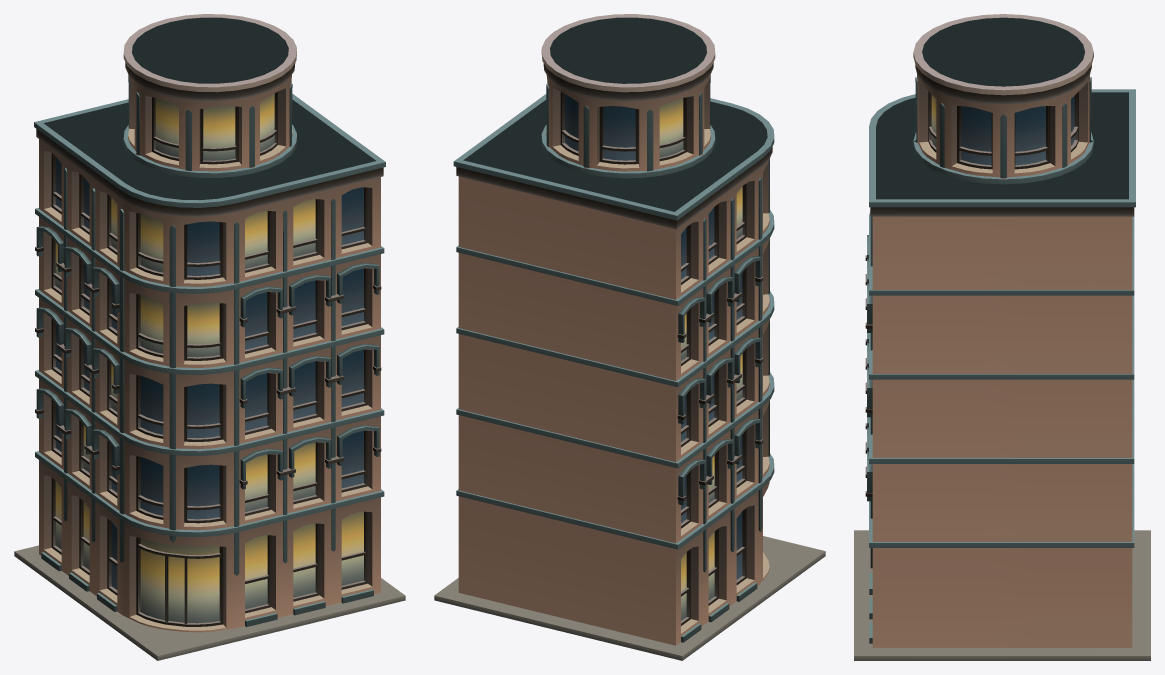
The model's file is Building_20B.fbx.
3 views of the same model, side by side, from view 1: azimuth 30°, elevation 25°; view 2: azimuth 150°, elevation 25°; view 3: azimuth 270°, elevation 25° (orthographic). The views are drawn at different scales.
Visible parts, largest first — view 1: Building_20B, Window_Lights_20B; view 2: Building_20B, Window_Lights_20B; view 3: Building_20B.
Boxes of the visible parts, <box> form: Building_20B: <box>14,14,405,660</box>; Window_Lights_20B: <box>55,93,363,623</box>; Building_20B: <box>434,14,825,660</box>; Window_Lights_20B: <box>659,98,742,620</box>; Building_20B: <box>854,14,1150,660</box>.
Bounding box in the file's own units: 1600 × 3250 × 1600.
